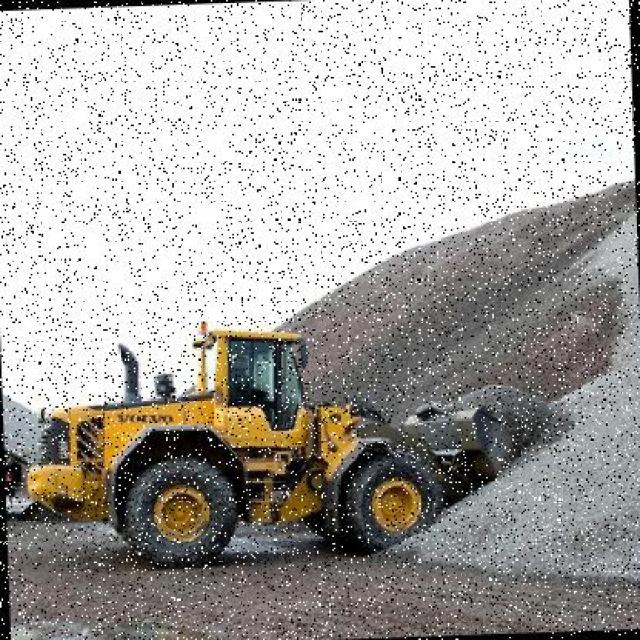buldozerpayloadergrader: (19, 310, 532, 562)
